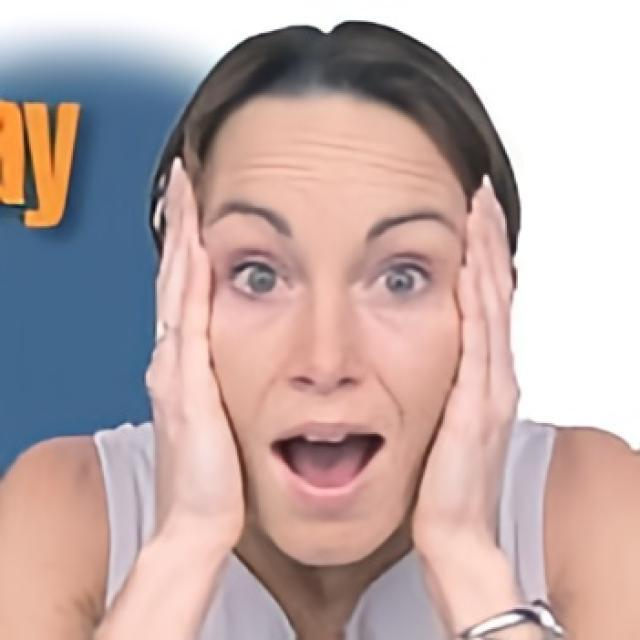surprise: (202, 99, 465, 564)
